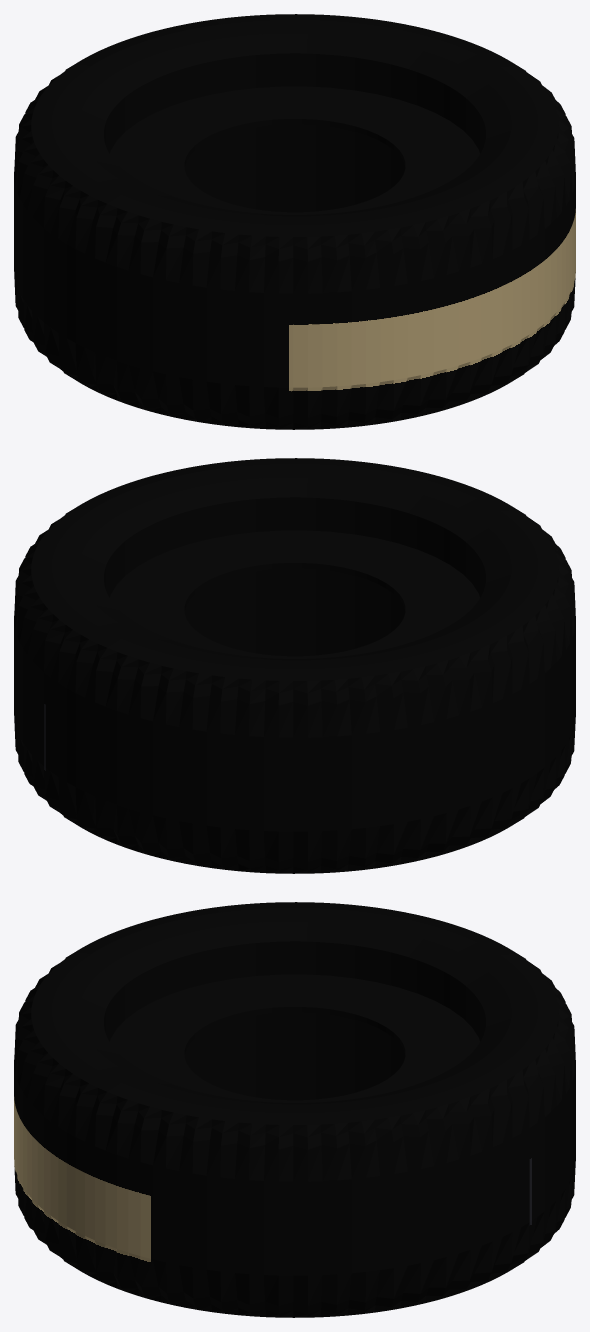
File: front_right_tire.obj
The picture shows the model from 3 angles, top to bottom: view 1: azimuth 30°, elevation 25°; view 2: azimuth 150°, elevation 25°; view 3: azimuth 270°, elevation 25°; orthographic projection.
Size of the model in its own units: 0.065 by 0.0254 by 0.065.
Materials: 1 (1 with a texture image).
